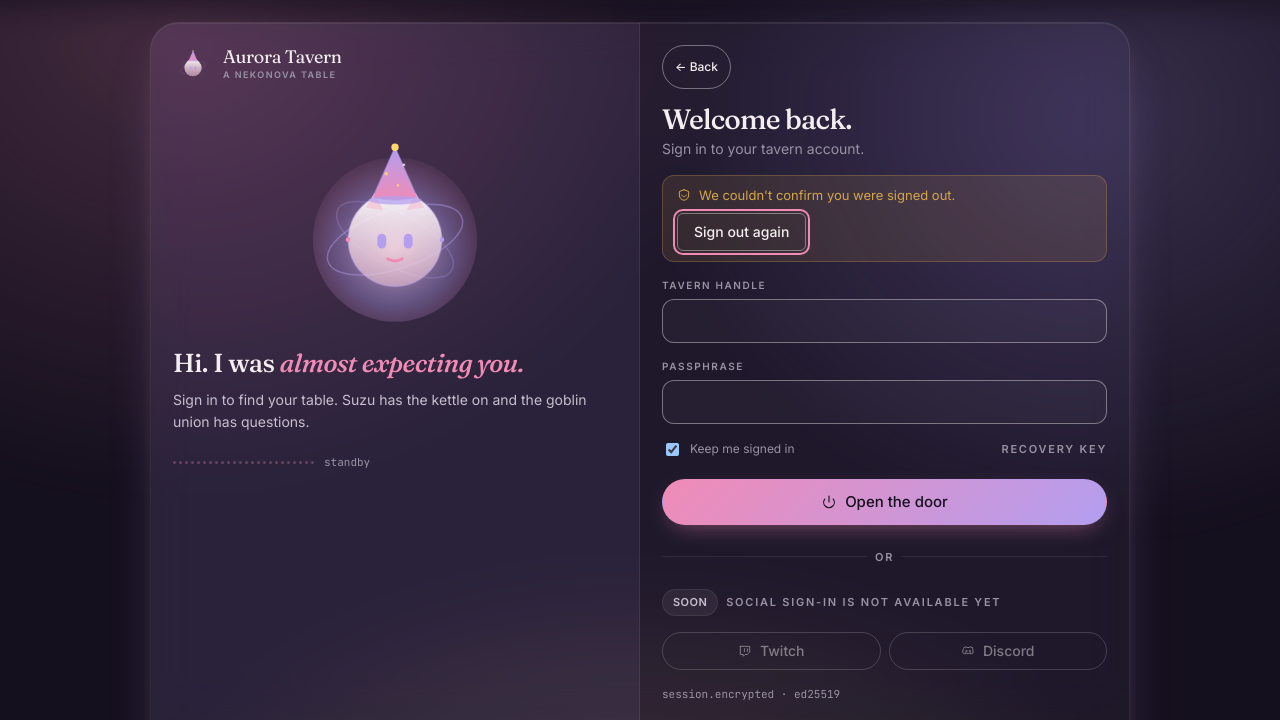
Test: "Sign out again" (R192) › keeps keyboard focus on the button after a failed retry (aria-disabled, never disabled)
This screenshot has width=1280, height=720.
Click the button "Sign out again".
click(742, 232)  # box x1=677 y1=213 x2=806 y2=251
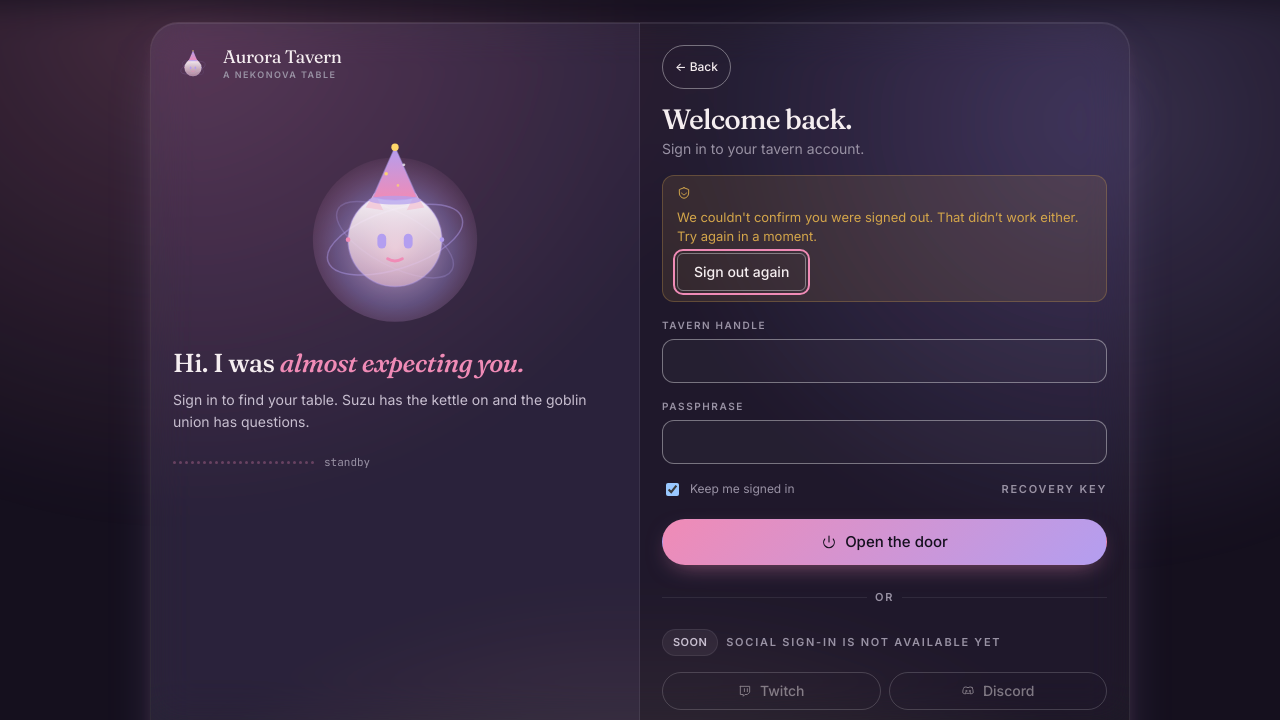
expect the button "Sign out again" is enabled: met, box x1=677 y1=253 x2=806 y2=291
expect the message shows "didn.t work either": met, box x1=677 y1=209 x2=1078 y2=244
